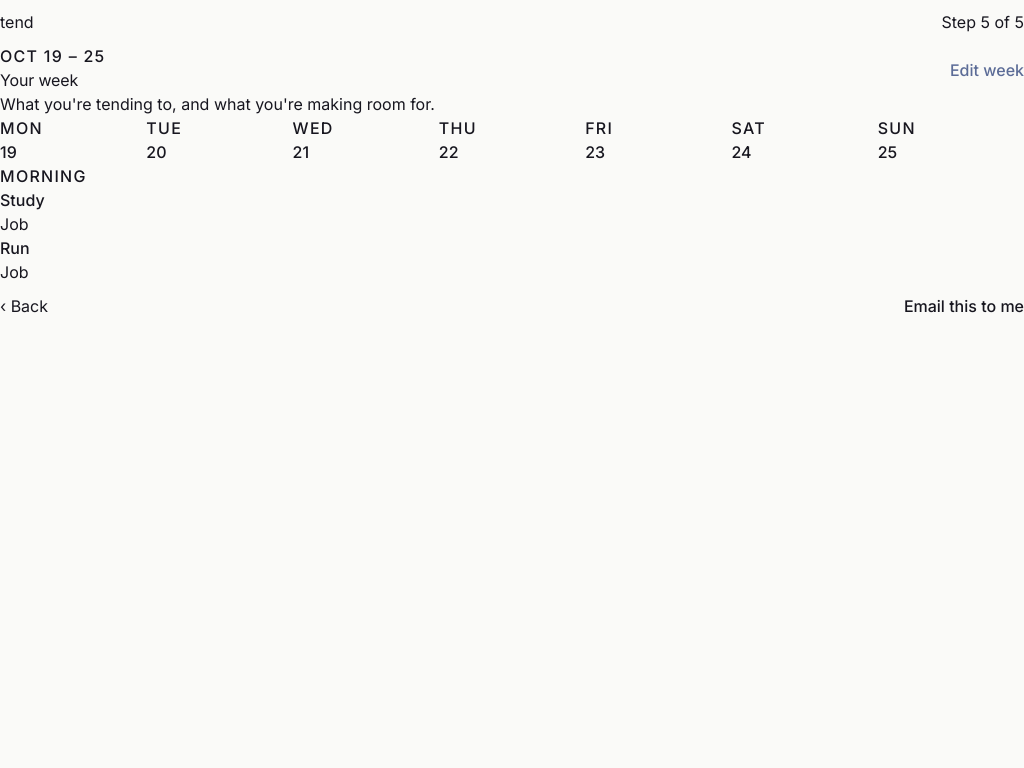
Test case: YourWeekStep › opens a day and time editor from the card, and from a right-click
Click the button "Edit week".
click(987, 70)  # box [950,48,1023,92]
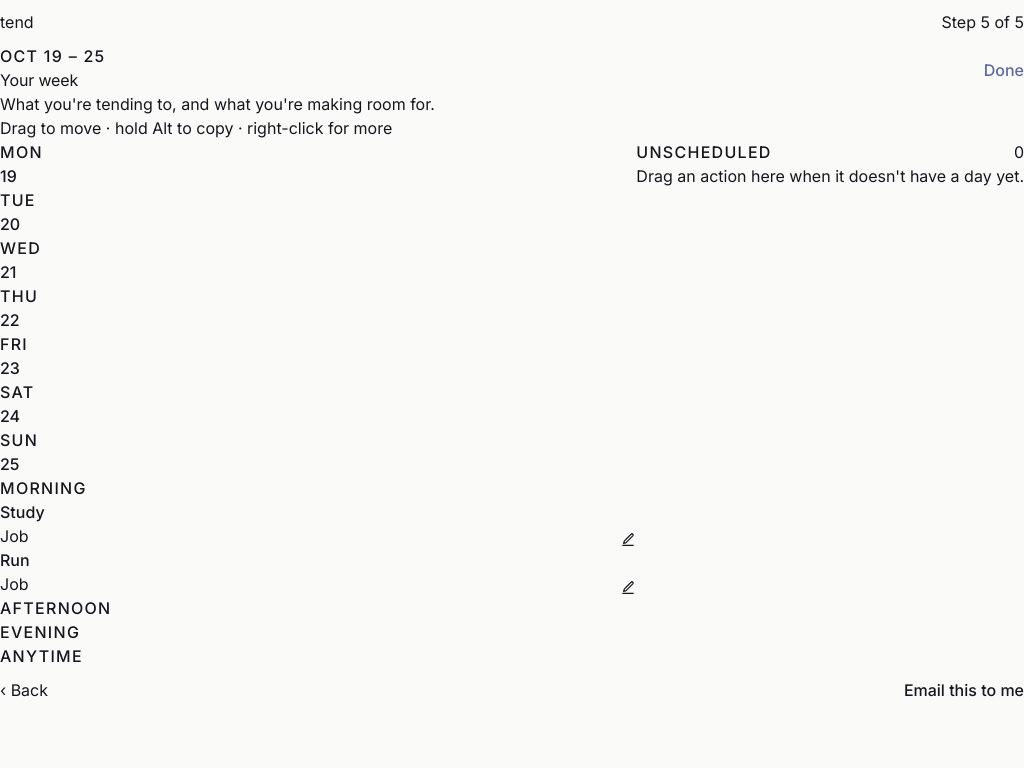
Click the button named "Study, Mon morning. Job".
click(310, 512)  # box [0,500,620,524]
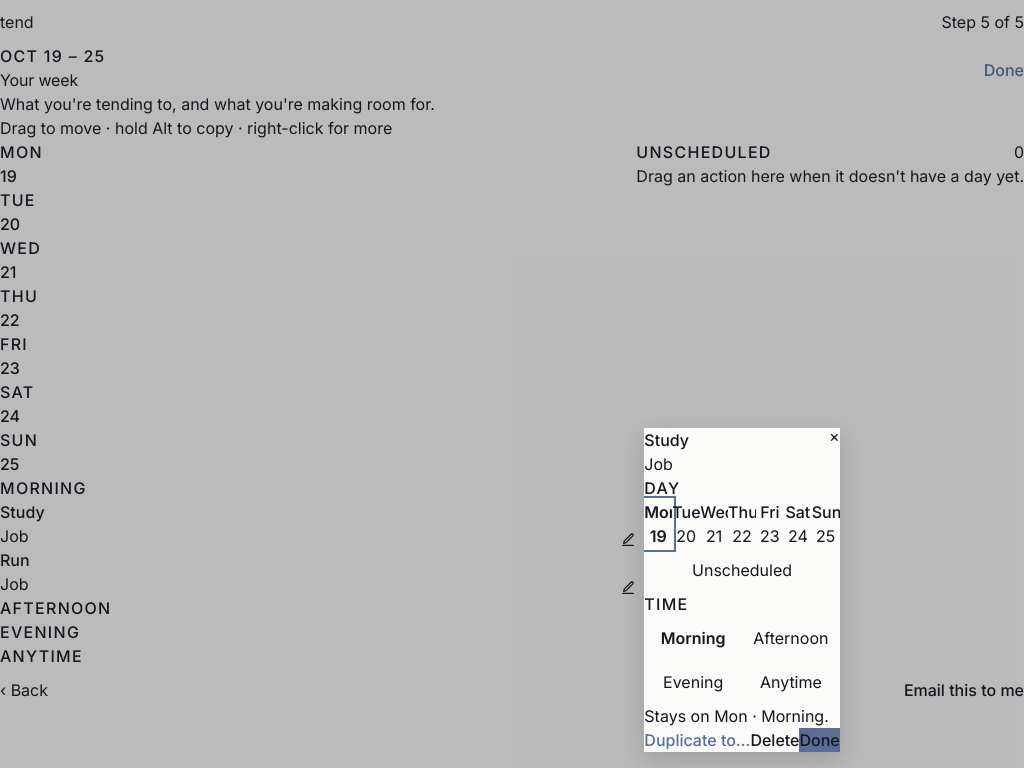
expect the text "Stays on Mon · Morning." is shown: met, box [644,704,840,728]
expect the button "Done" is shown: met, box [800,728,840,752]
expect the button "Duplicate to..." is shown: met, box [644,728,750,752]
Press Escape
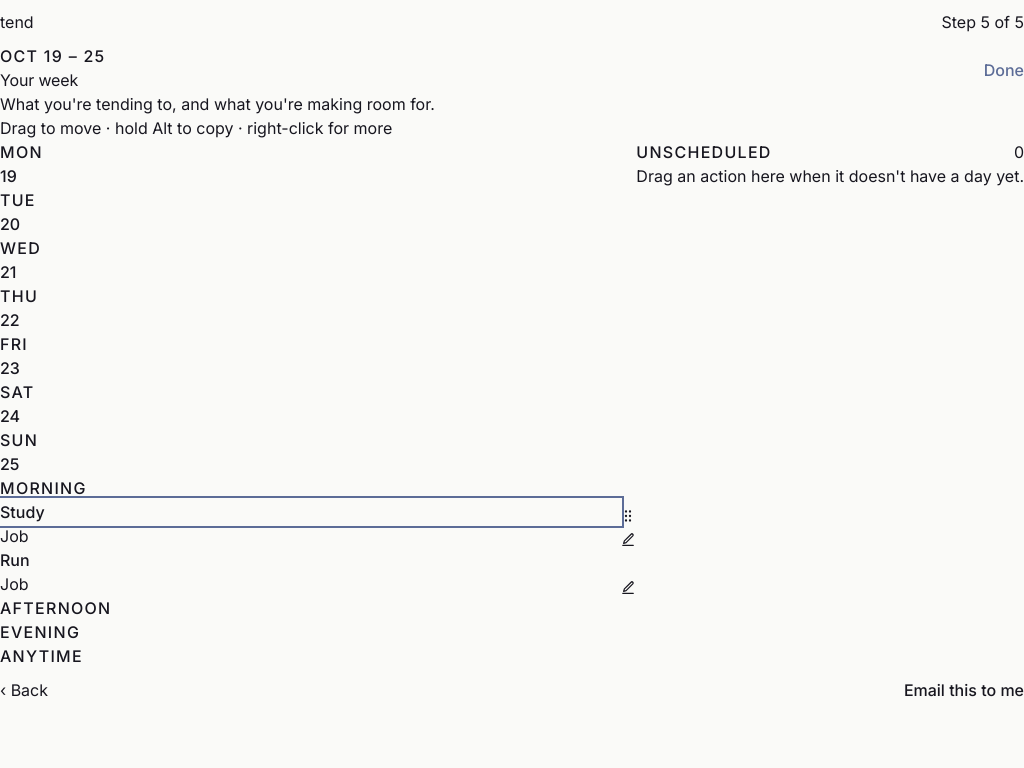
expect the dialog is gone: met
Right-click the button named "Run, Mon morning. Job".
right_click(310, 560)  # box [0,548,620,572]
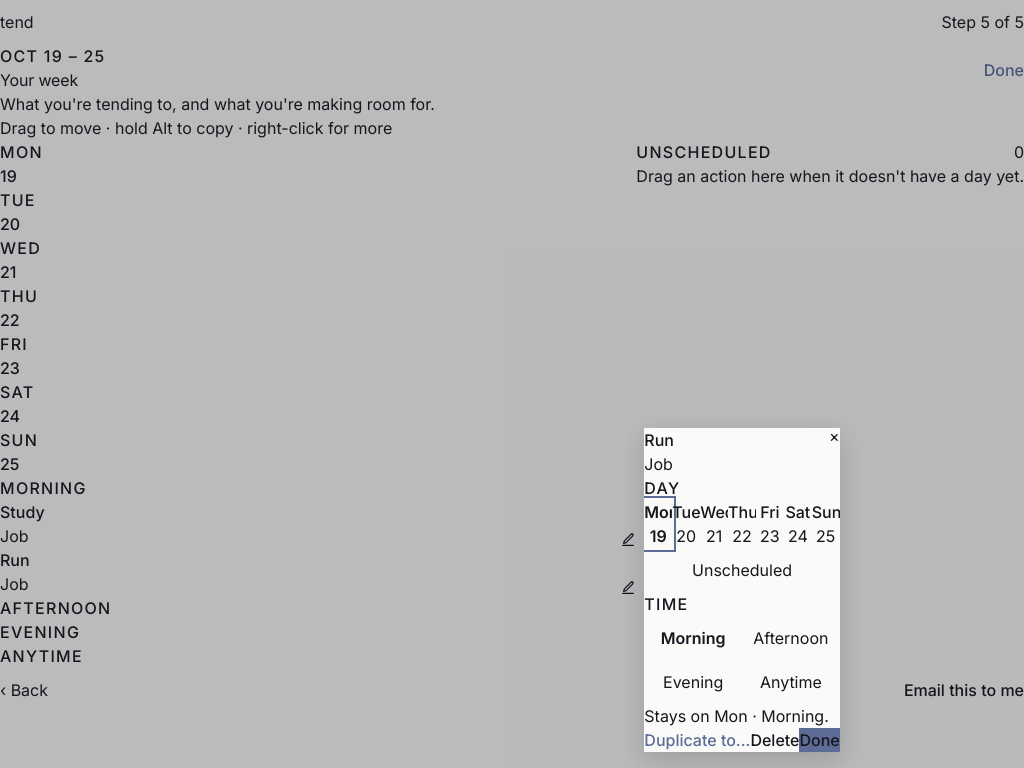
expect the dialog "Run" is shown: met, box [644,428,840,752]
